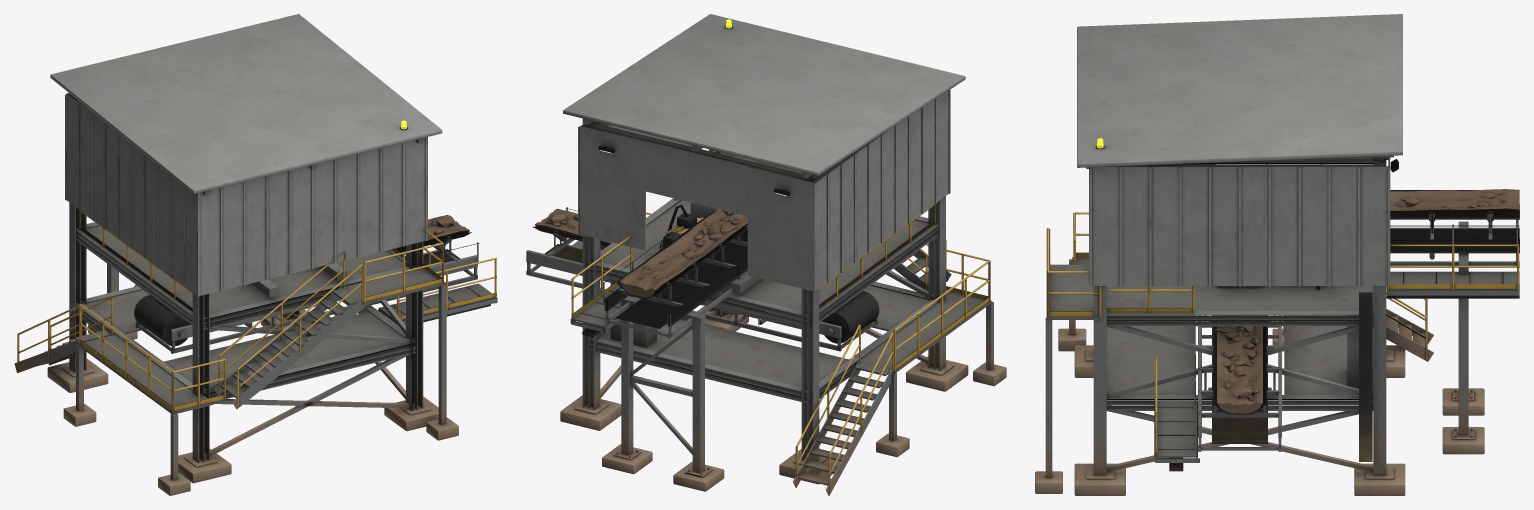
The model's file is conveyor-transfer-tower-v1-lod0.glb.
3 views of the same model, side by side, from view 1: azimuth 30°, elevation 25°; view 2: azimuth 150°, elevation 25°; view 3: azimuth 270°, elevation 25° (orthographic). The views are drawn at different scales.
Parts seen in each view (by area): view 1: body.002; view 2: body.002; view 3: body.002.
Boxes of the visible parts, box(x1,y1,x2,y2) form: body.002: box(14, 14, 497, 495); body.002: box(526, 14, 1006, 495); body.002: box(1035, 14, 1519, 495).
Bounding box in the file's own units: 10.4 × 8.15 × 10.41.
3 materials, 1 textured.
